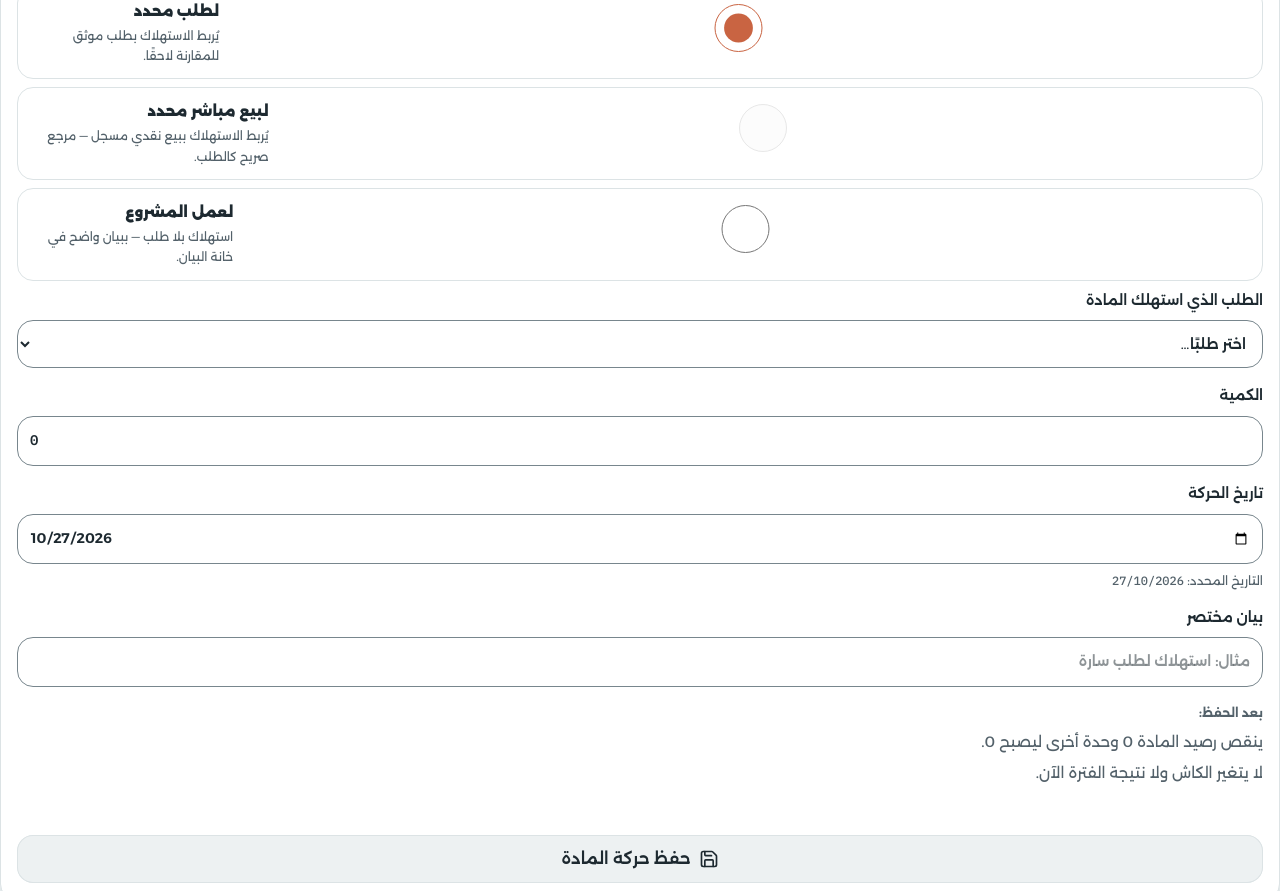
it: OPS-001 — no silent first-record selection in the movement editor › an invalid order identifier announces the missing reference and never falls back to another record
(page scrolled)
Expected: the dropdown labelled "الطلب الذي استهلك المادة" shows "اختر طلبًا…", [17,320,1263,368]
Click the button "حفظ حركة المادة".
click(640, 859)  # box [17,835,1263,883]
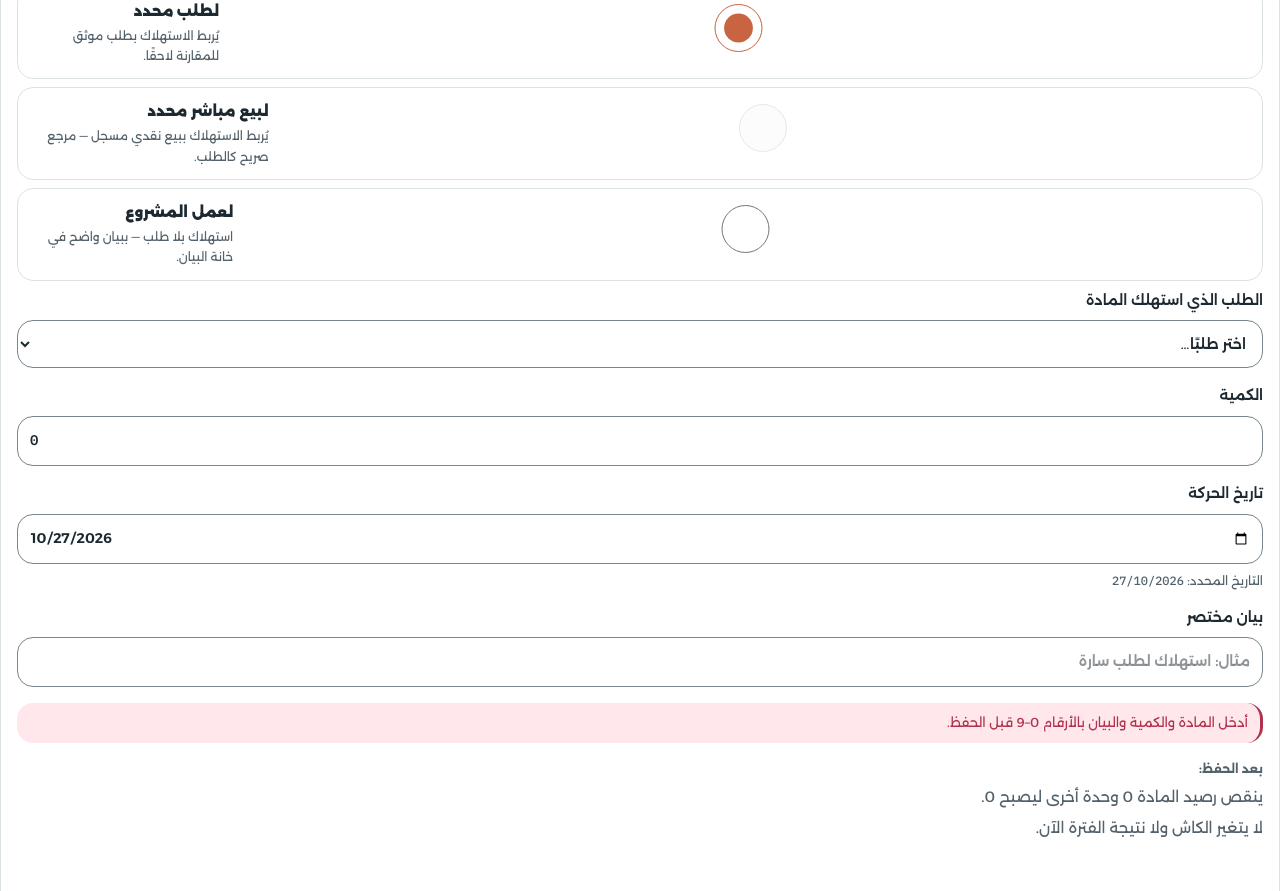
Expected: the text "أدخل المادة والكمية والبيان بالأرقام 0–9 قبل الحفظ." is shown, [17,703,1263,743]
